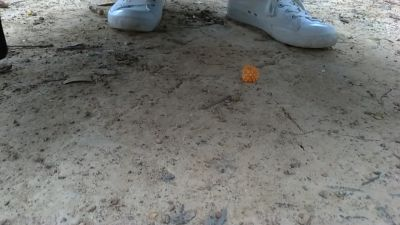eggs: (241, 61, 259, 84)
